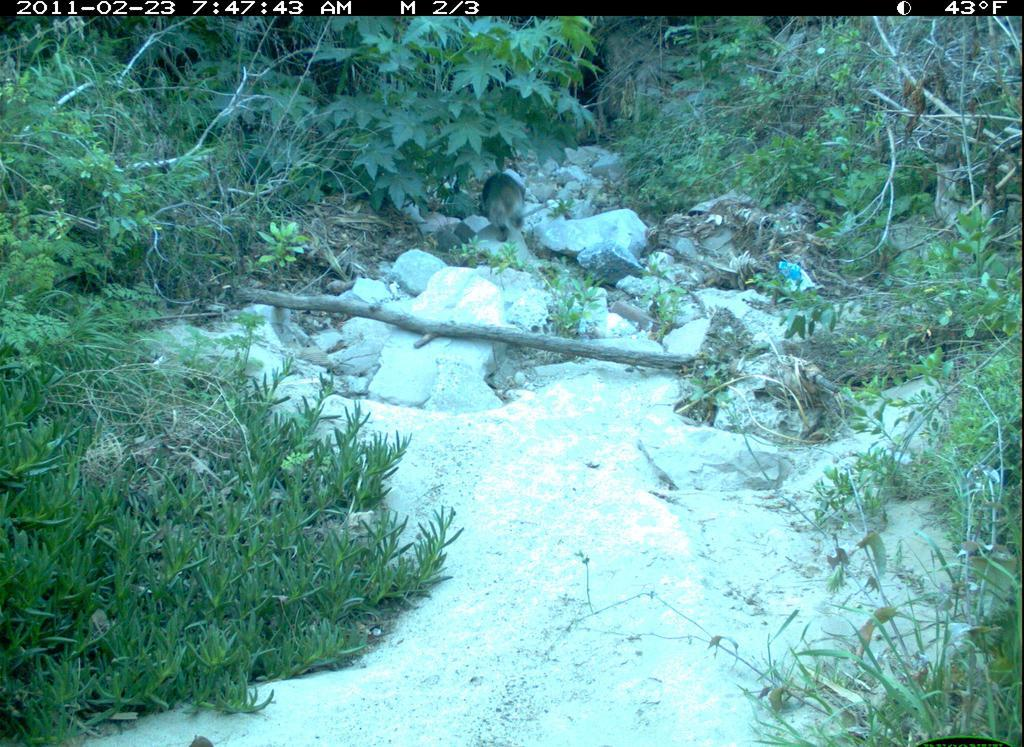raccoon: (475, 157, 538, 250)
